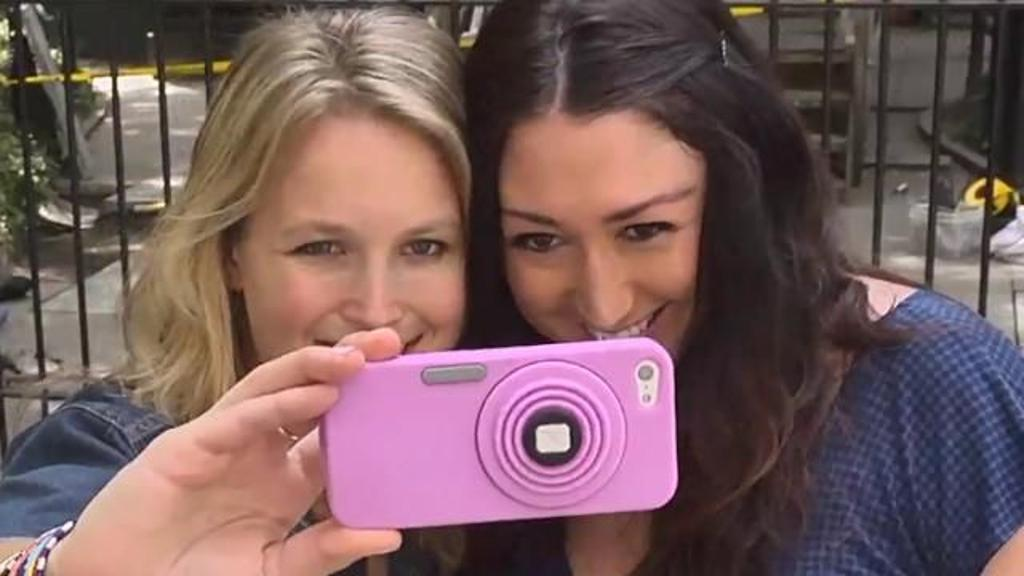face: (242, 114, 464, 422), (502, 94, 694, 386)
